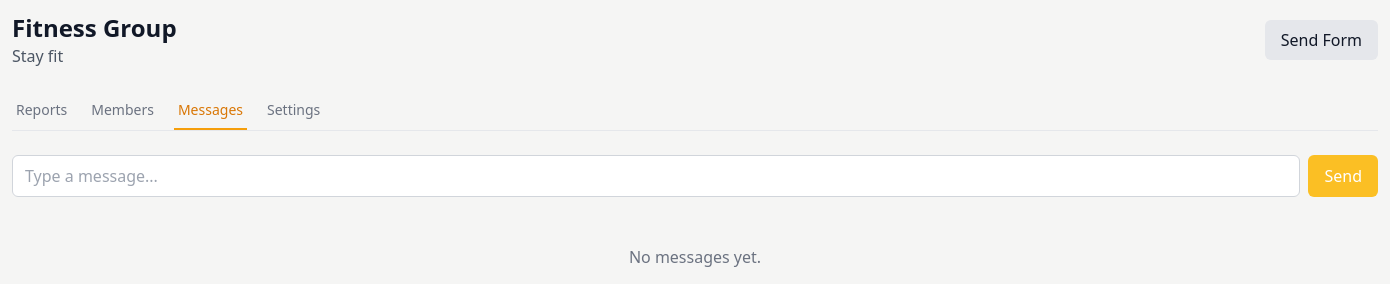
GroupDetail › should show empty state when no form reports
Expected: the heading "Fitness Group" is shown, [12,12,177,44]
Click the button "Reports". click: (42, 111)
box: [12,92,71,130]
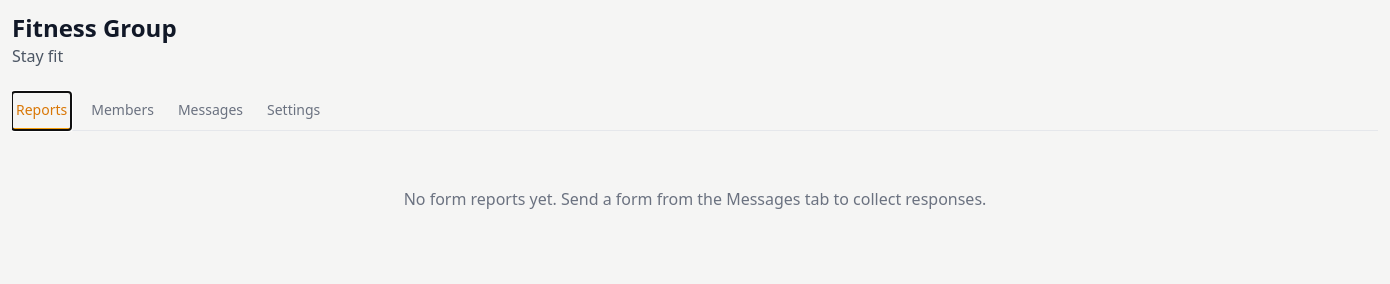
Expected: the text "No form reports yet" is shown, [404,188,986,210]
